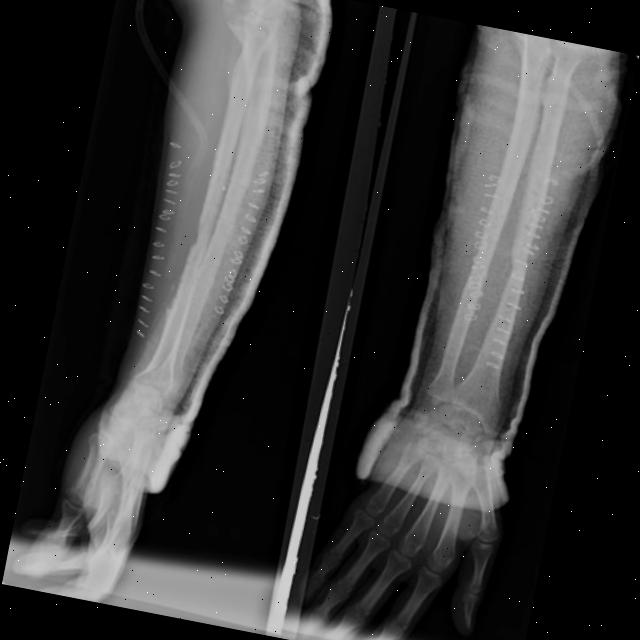fractured: (185, 211, 212, 267), (507, 245, 529, 281)
